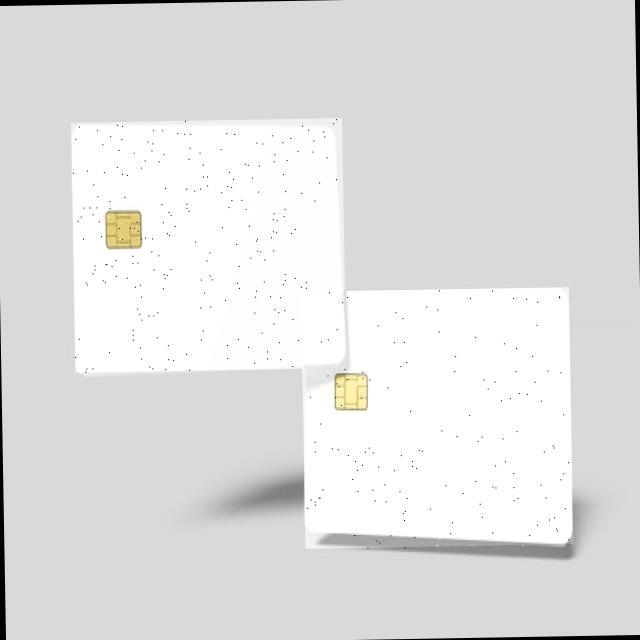payment_card: (301, 286, 574, 550), (70, 117, 346, 374)
